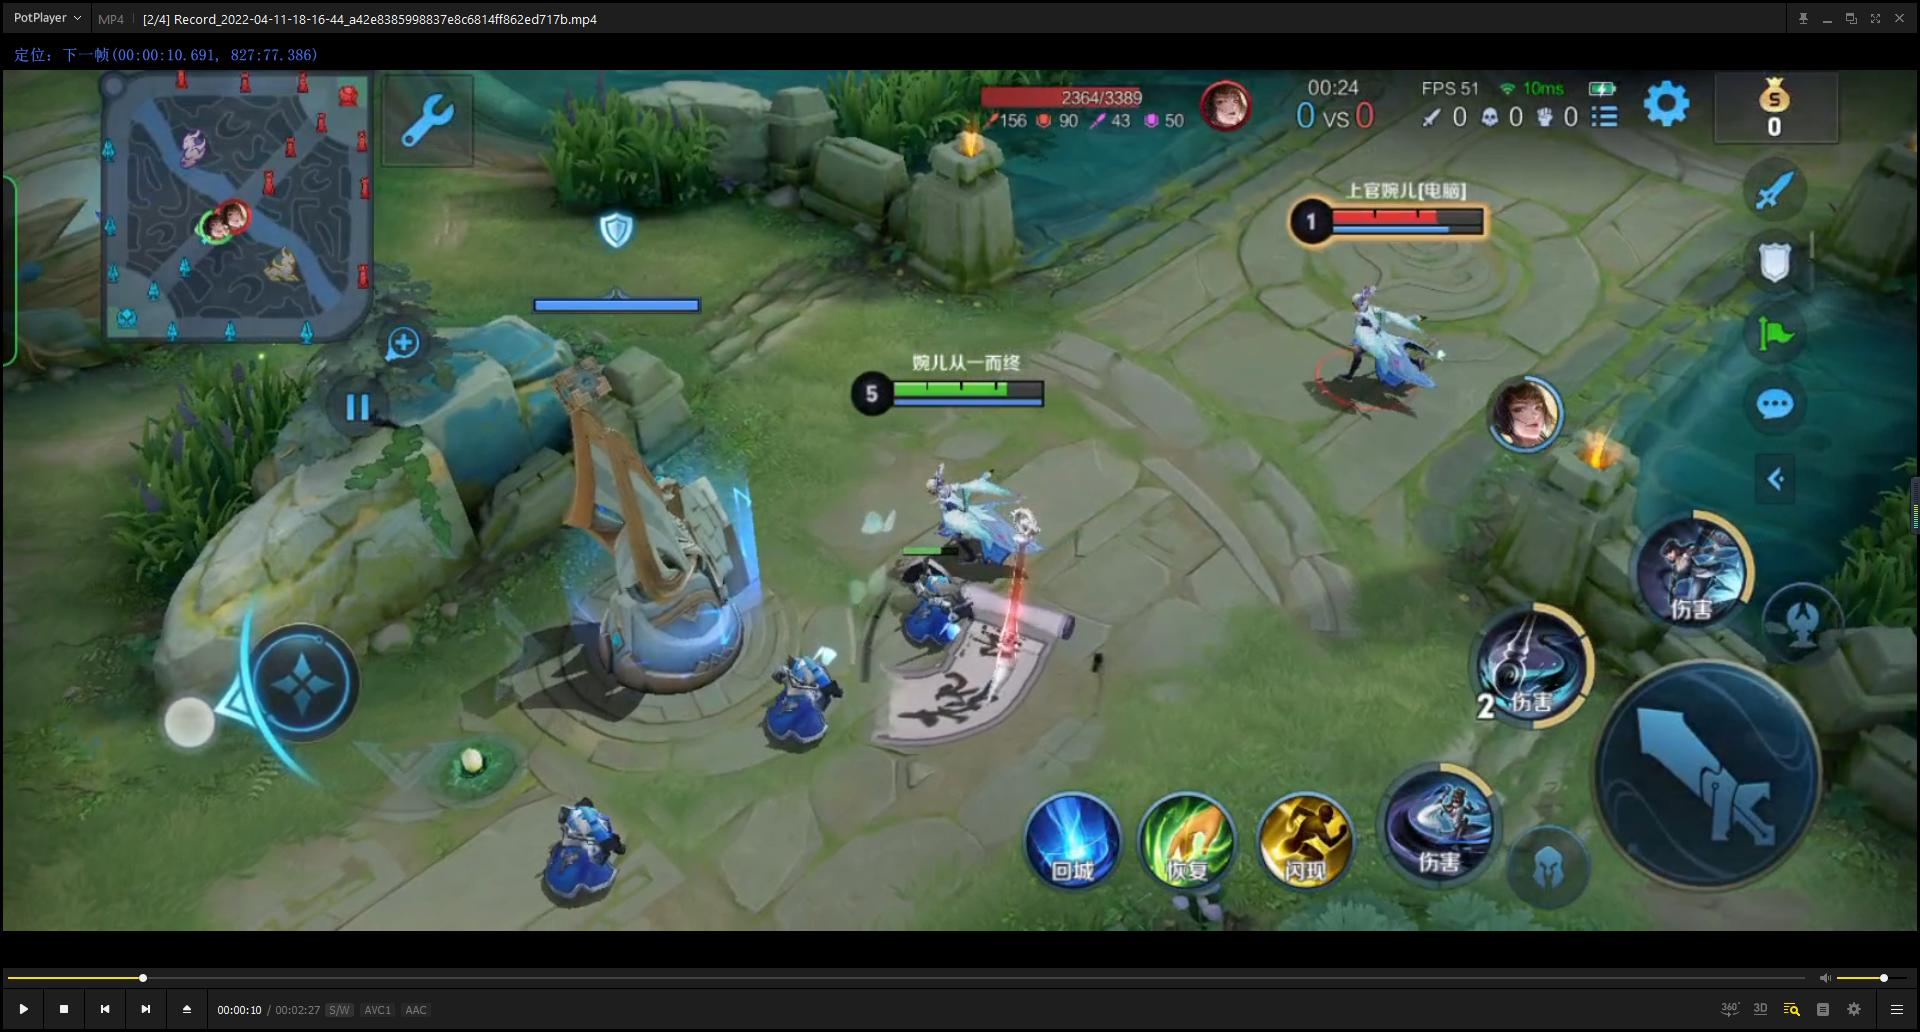Hero: (1319, 273, 1499, 444), (895, 437, 1036, 564)
Solider: (734, 648, 910, 805), (510, 775, 667, 925), (853, 538, 989, 677)
Tower: (513, 275, 781, 708)
